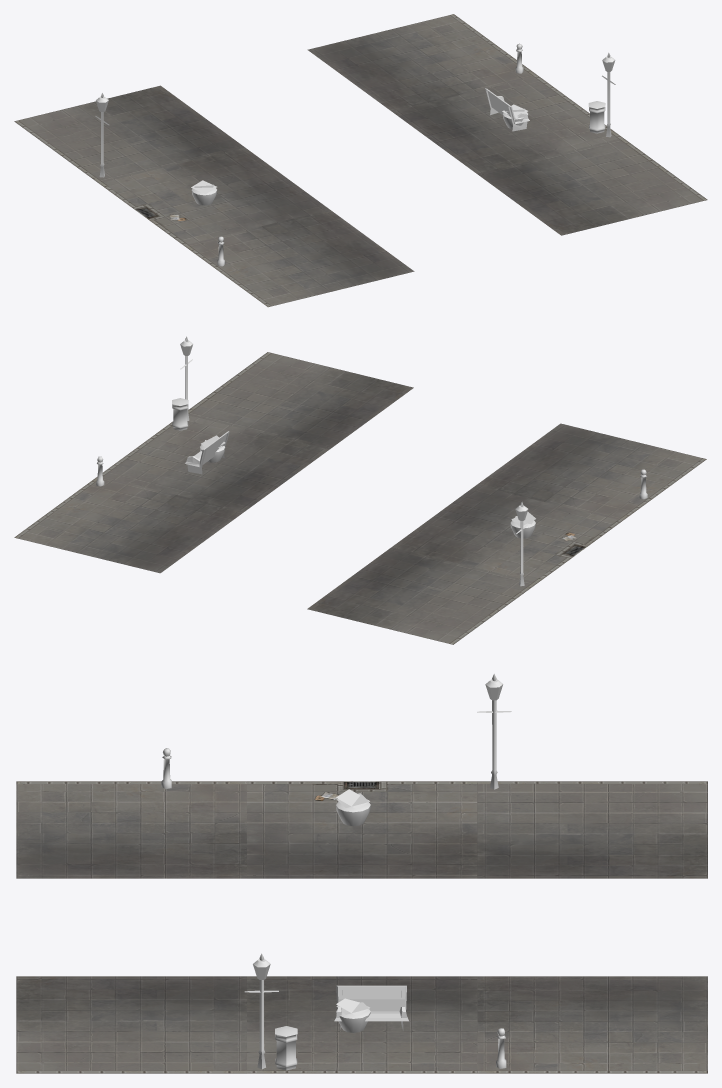
The model's file is propsonly_h51.gltf.
3 views of the same model, one above another, from view 1: azimuth 30°, elevation 25°; view 2: azimuth 150°, elevation 25°; view 3: azimuth 270°, elevation 25° (orthographic). The views are drawn at different scales.
Visible parts, largest first — view 1: file_h51_endl.004, file_h51_endr.003, file_h51_endr.004, file_h51_endl.003, file_h51_center2.001, file_h51_center3.002, prop_bench_h51, prop_trashcan_h51_1, prop_flowerpot_h51_1; view 2: file_h51_endl.004, file_h51_endl.003, file_h51_endr.003, file_h51_endr.004, file_h51_center2.001, file_h51_center3.002, prop_bench_h51, prop_trashcan_h51_1; view 3: file_h51_endl.004, file_h51_endl.003, file_h51_endr.004, file_h51_endr.003, file_h51_center2.001, file_h51_center3.002, prop_bench_h51, prop_flowerpot_h51_1, prop_trashcan_h51_1, prop_flowerpot_h51_2, prop_lightpost_h51_2, prop_lightpost_h51_1.
Boxes of the visible parts, box(x1,y1,x2,y2) form: file_h51_endl.004: box(477, 138, 707, 235); file_h51_endr.003: box(307, 14, 537, 111); file_h51_endr.004: box(184, 209, 414, 307); file_h51_endl.003: box(14, 85, 244, 183); file_h51_center2.001: box(99, 147, 329, 245); file_h51_center3.002: box(392, 76, 622, 173); prop_bench_h51: box(485, 88, 529, 131); prop_trashcan_h51_1: box(588, 101, 605, 133); prop_flowerpot_h51_1: box(191, 180, 217, 205); file_h51_endl.004: box(188, 352, 413, 449); file_h51_endl.003: box(307, 547, 537, 644); file_h51_endr.003: box(14, 476, 244, 573); file_h51_endr.004: box(476, 423, 706, 520); file_h51_center2.001: box(392, 485, 621, 582); file_h51_center3.002: box(102, 415, 328, 511); prop_bench_h51: box(185, 431, 229, 474); prop_trashcan_h51_1: box(172, 398, 188, 430); file_h51_endl.004: box(16, 976, 246, 1073); file_h51_endl.003: box(477, 781, 707, 878); file_h51_endr.004: box(16, 781, 246, 878); file_h51_endr.003: box(477, 976, 707, 1073); file_h51_center2.001: box(247, 781, 477, 878); file_h51_center3.002: box(247, 976, 477, 1073); prop_bench_h51: box(334, 985, 408, 1030); prop_flowerpot_h51_1: box(336, 789, 370, 826); prop_trashcan_h51_1: box(275, 1026, 297, 1070); prop_flowerpot_h51_2: box(336, 998, 370, 1032); prop_lightpost_h51_2: box(244, 953, 278, 1069); prop_lightpost_h51_1: box(477, 674, 511, 789).
Size of what is drawn, in the model's own units: 3 by 0.5636 by 3.01.
